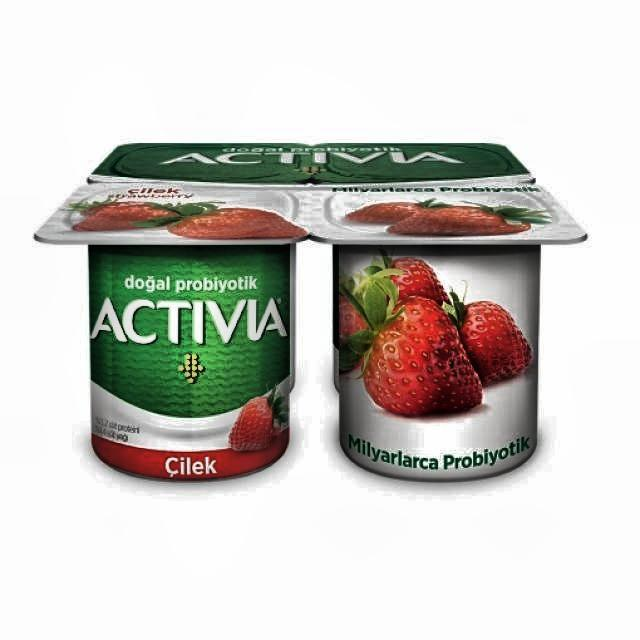plastic: (34, 143, 588, 483)
